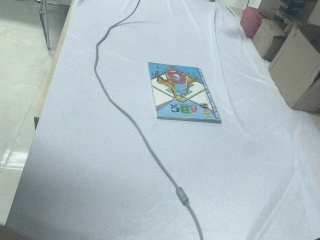book: (149, 62, 223, 126)
box: (268, 22, 320, 115)
